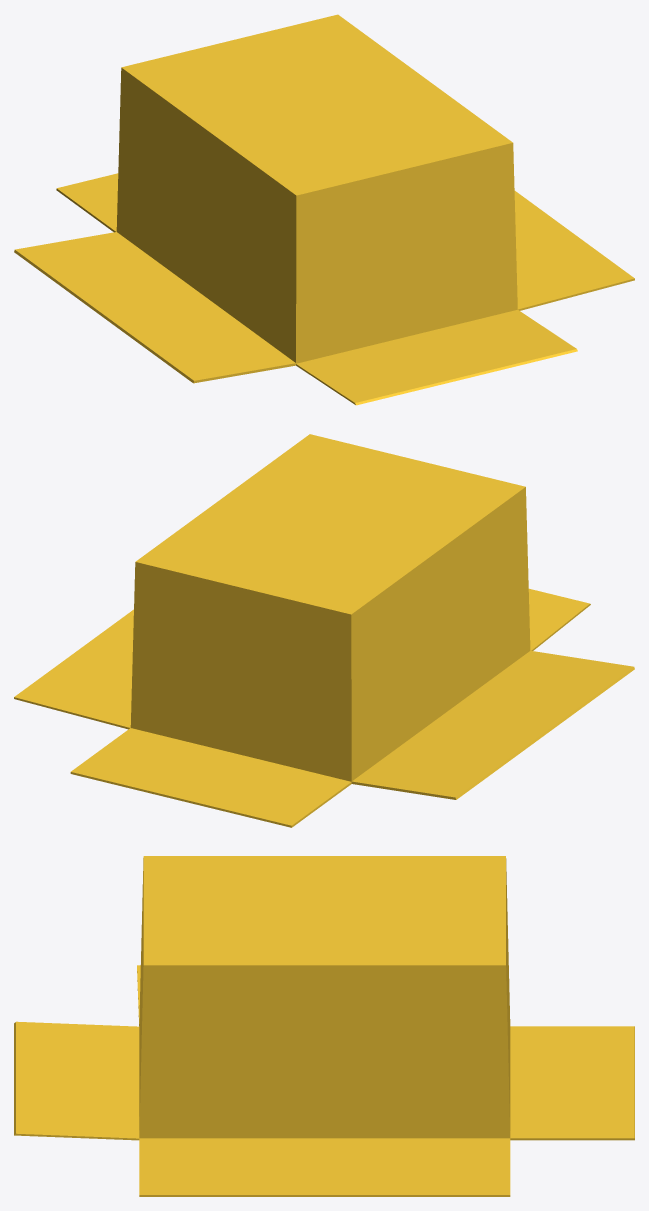
3 renders of one model, top to bottom at view 1: azimuth 30°, elevation 25°; view 2: azimuth 150°, elevation 25°; view 3: azimuth 270°, elevation 25°, orthographic. The views are drawn at different scales.
Parts seen in each view (by area): view 1: Box; view 2: Box; view 3: Box.
Part boxes in pixels (x1=…): Box: x1=14, y1=14, x2=634, y2=405; Box: x1=14, y1=434, x2=634, y2=827; Box: x1=14, y1=856, x2=634, y2=1196.
Bounding box in the file's own units: 4.08 × 1.48 × 4.8.
